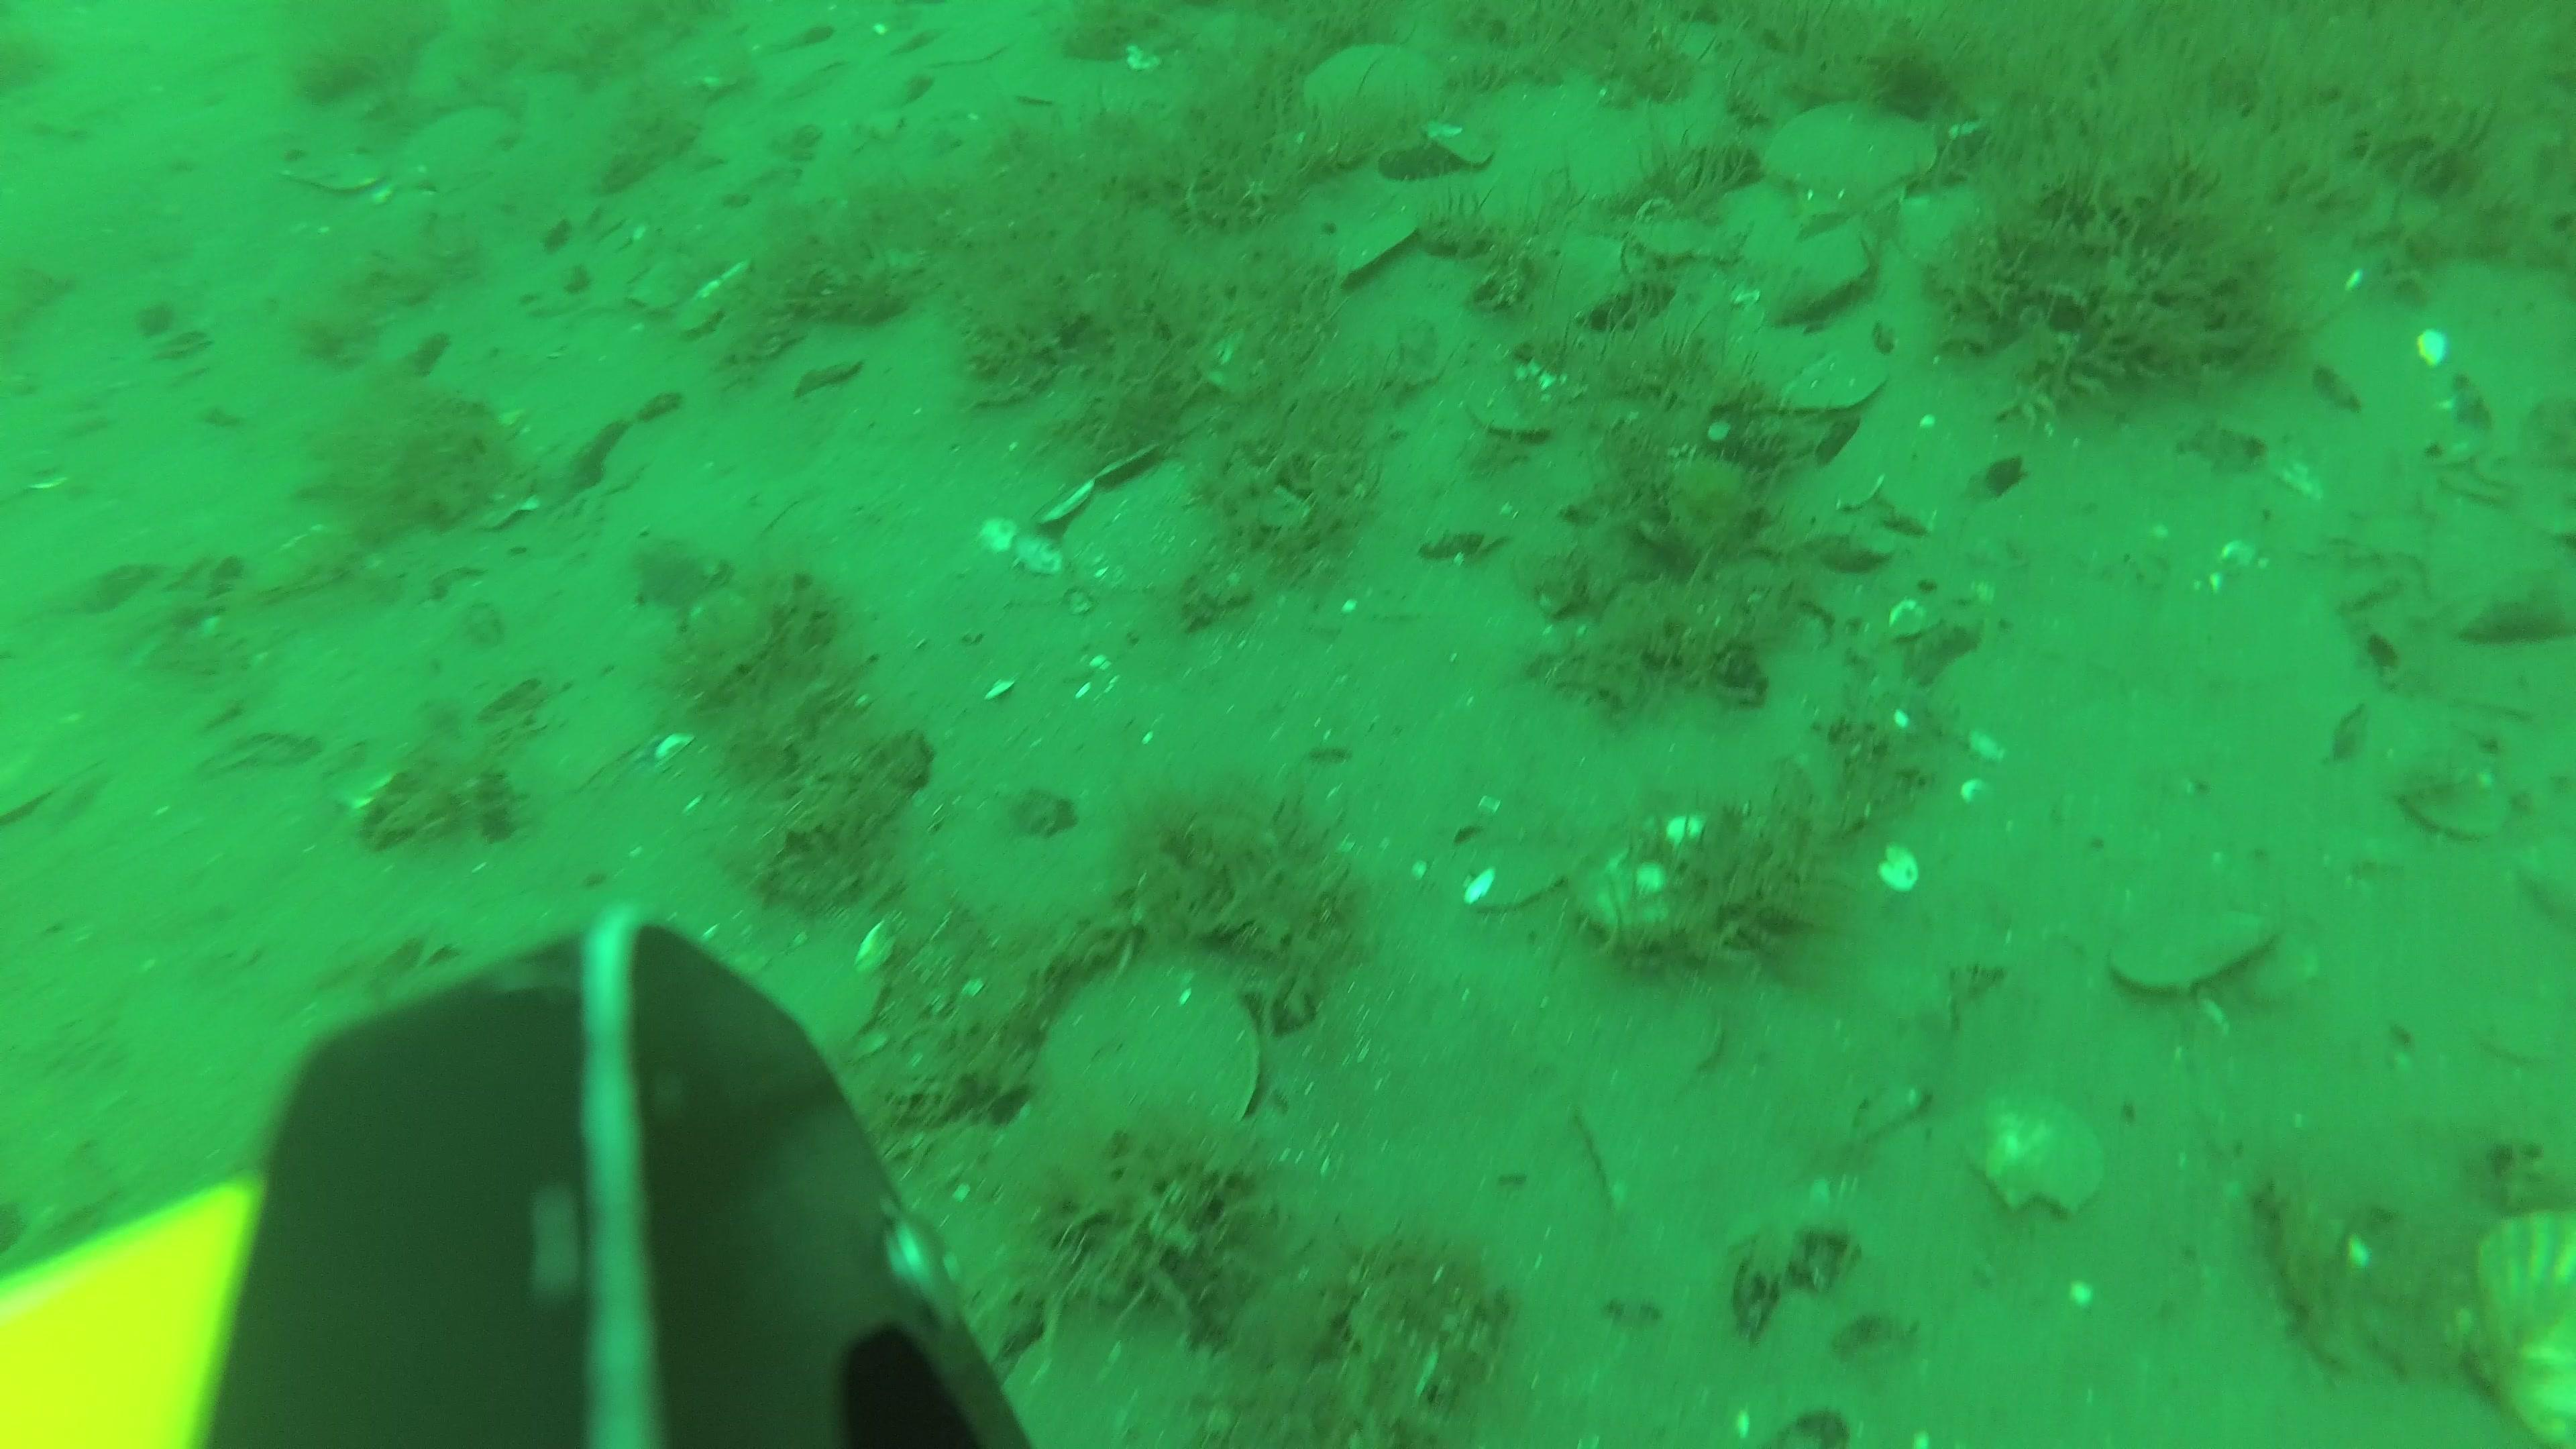scallop: (1037, 955, 1270, 1162), (2456, 1187, 2576, 1449), (1058, 442, 1230, 607), (1951, 1076, 2118, 1226), (1752, 90, 1948, 216), (757, 931, 899, 1072), (2107, 899, 2275, 996), (1302, 37, 1456, 138), (387, 101, 522, 200)
